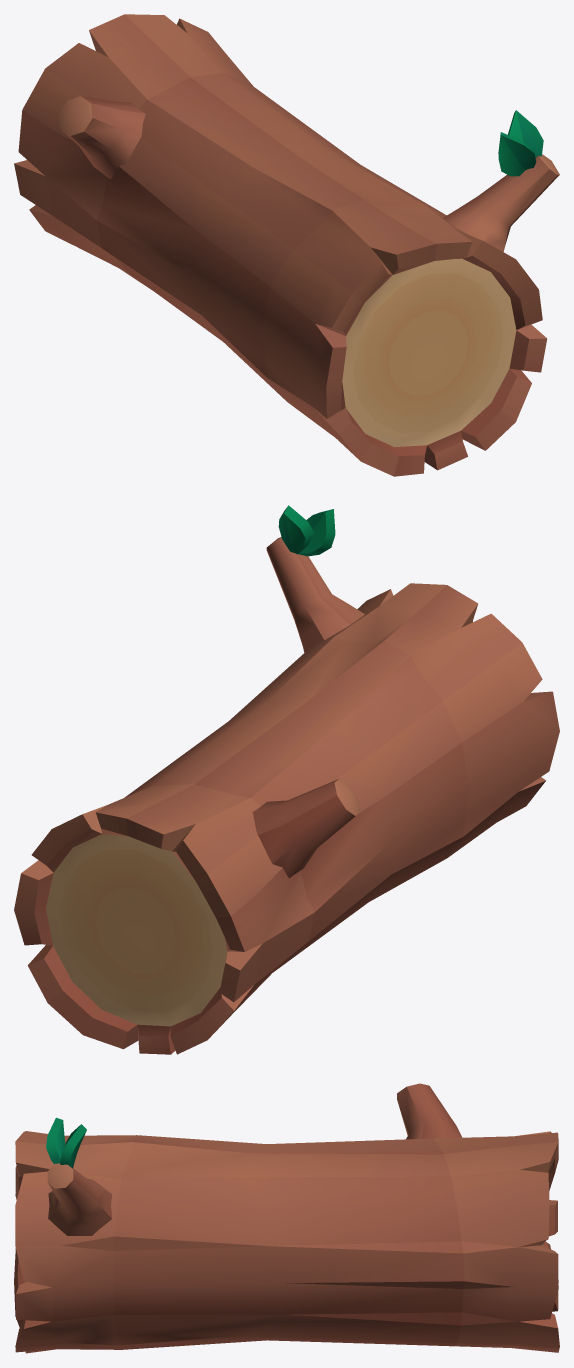
Rendered from chopping_log.glb.
3 renders of one model, top to bottom at view 1: azimuth 30°, elevation 25°; view 2: azimuth 150°, elevation 25°; view 3: azimuth 270°, elevation 25°, orthographic. The views are drawn at different scales.
Parts seen in each view (by area): view 1: Wood_Log_A.001; view 2: Wood_Log_A.001; view 3: Wood_Log_A.001.
Boxes of the visible parts, x1=… form: Wood_Log_A.001: x1=14, y1=14, x2=559, y2=476; Wood_Log_A.001: x1=14, y1=505, x2=559, y2=1054; Wood_Log_A.001: x1=14, y1=1083, x2=559, y2=1353.
Size of the model in its own units: 0.7214 by 0.7334 by 1.35.
1 material, 1 textured.
